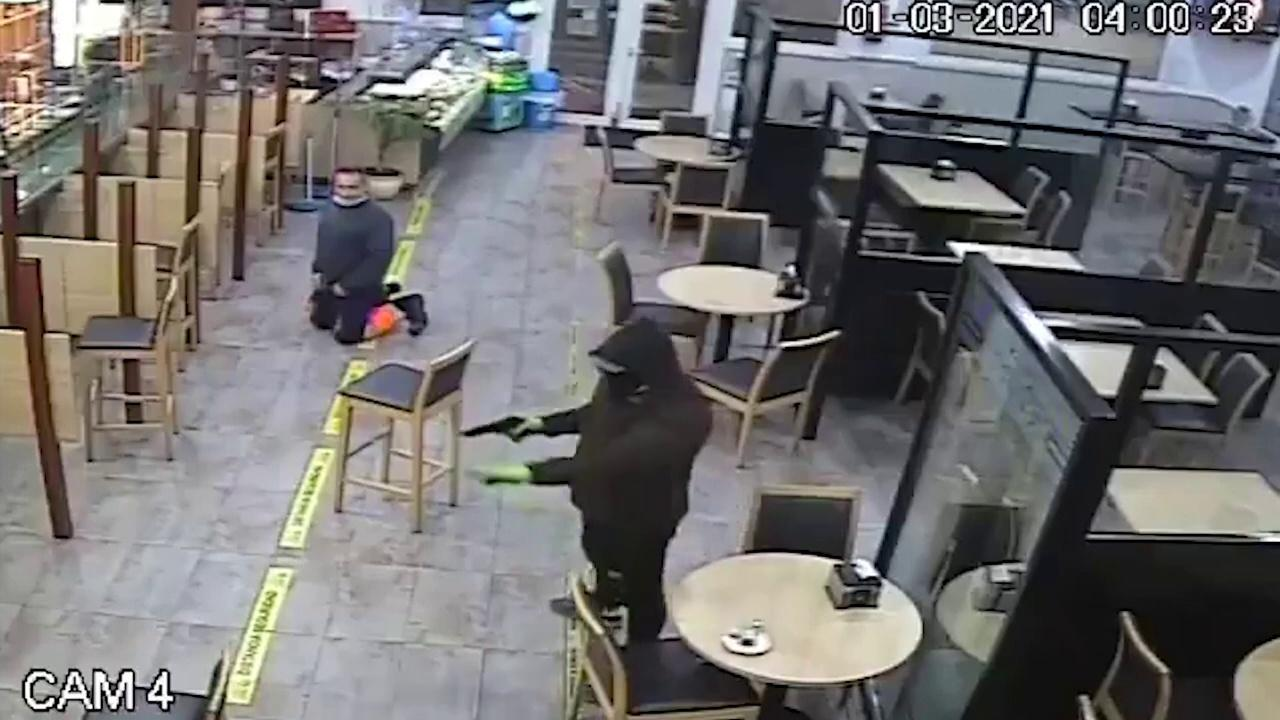Guns perspective: (447, 405, 546, 460)
